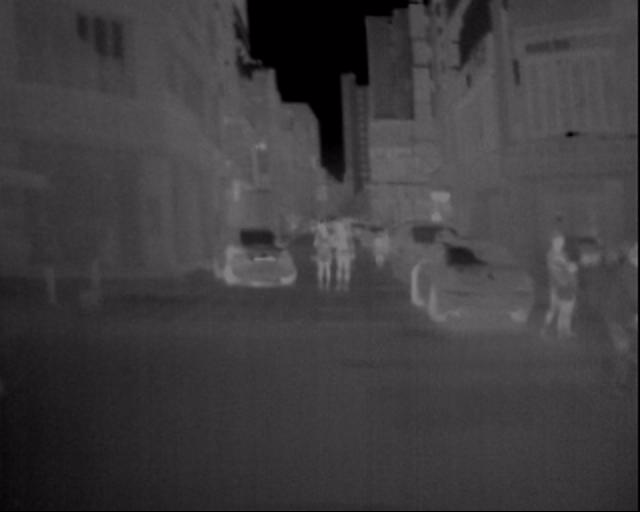person: (534, 211, 591, 354), (329, 210, 359, 294), (305, 208, 332, 301), (370, 218, 393, 275)
